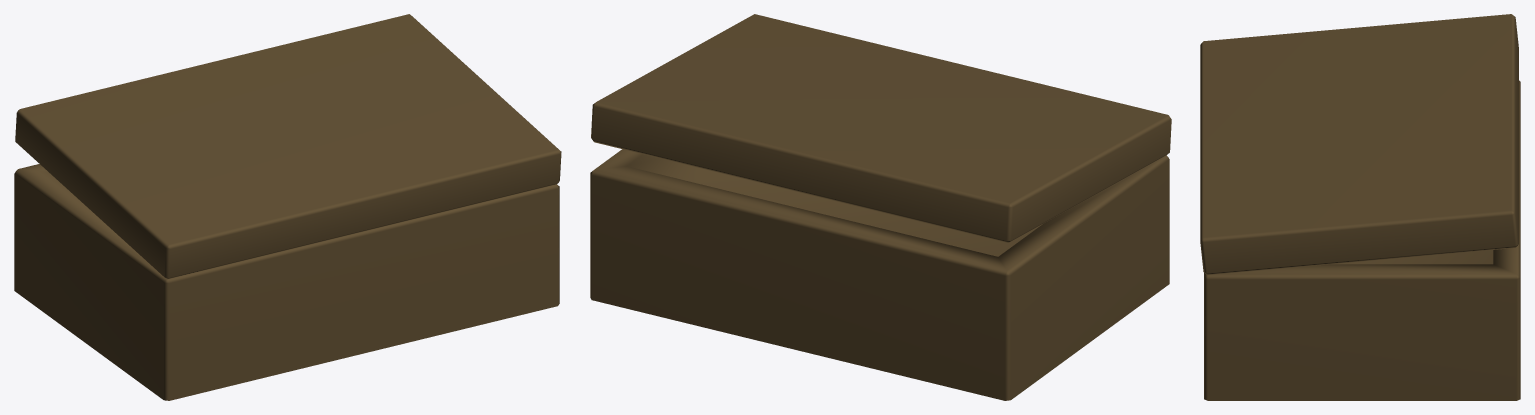
The model's file is MapJewelryBox_a01.fbx.
3 views of the same model, side by side, from view 1: azimuth 30°, elevation 25°; view 2: azimuth 150°, elevation 25°; view 3: azimuth 270°, elevation 25° (orthographic). The views are drawn at different scales.
Visible parts, largest first — view 1: JewelryBox_a01; view 2: JewelryBox_a01; view 3: JewelryBox_a01.
Part boxes in pixels (left/top/right/bottom): JewelryBox_a01: left=14, top=14, right=561, bottom=400; JewelryBox_a01: left=590, top=14, right=1171, bottom=400; JewelryBox_a01: left=1200, top=14, right=1520, bottom=400.
Bounding box in the file's own units: 1.36 × 0.6015 × 0.9242.
